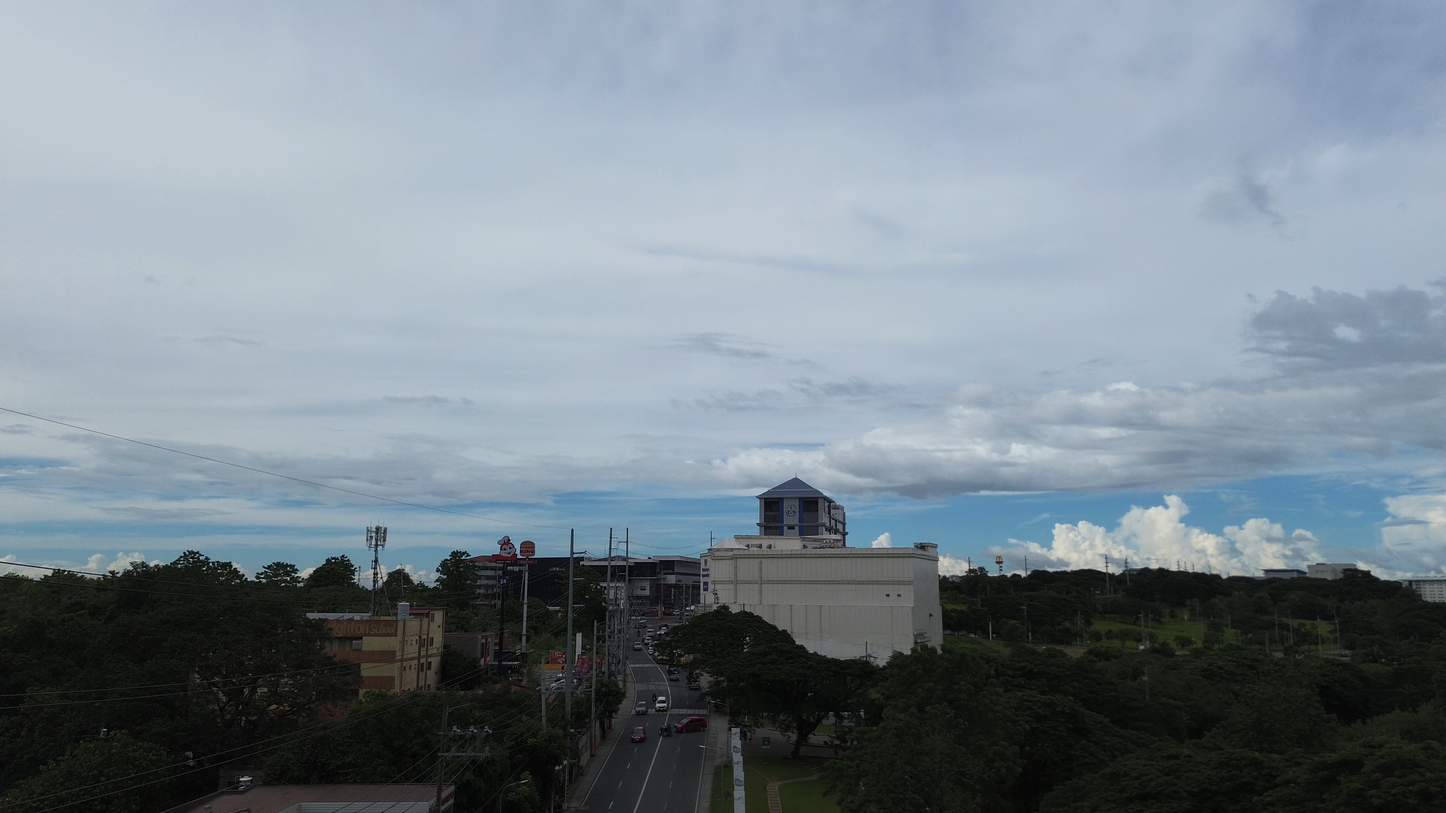car: (630, 726, 646, 743), (654, 696, 669, 712), (687, 678, 701, 690), (667, 671, 680, 681), (632, 642, 642, 650)
vehicle: (674, 716, 707, 732), (634, 700, 648, 714), (659, 723, 673, 736)
